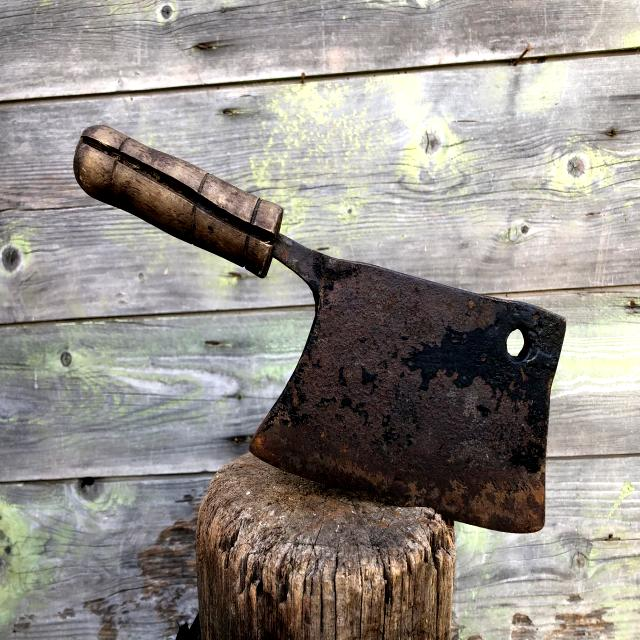cleaver: (79, 124, 546, 531)
